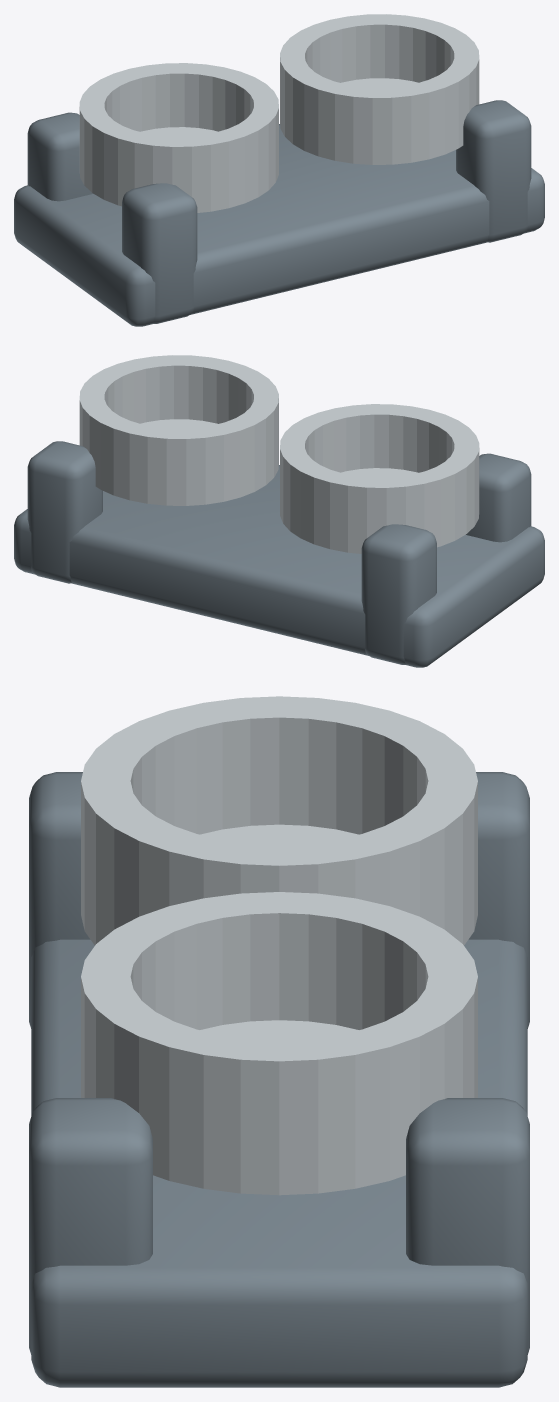
The model's file is pet-feeding-station.glb.
The picture shows the model from 3 angles, top to bottom: view 1: azimuth 30°, elevation 25°; view 2: azimuth 150°, elevation 25°; view 3: azimuth 270°, elevation 25°; orthographic projection. The views are drawn at different scales.
Parts seen in each view (by area): view 1: pet-feeding-station; view 2: pet-feeding-station; view 3: pet-feeding-station.
Boxes of the visible parts, x1=… form: pet-feeding-station: x1=14, y1=14, x2=544, y2=326; pet-feeding-station: x1=14, y1=355, x2=544, y2=667; pet-feeding-station: x1=29, y1=696, x2=529, y2=1387.
Bounding box in the file's own units: 0.5 × 0.18 × 0.26.
